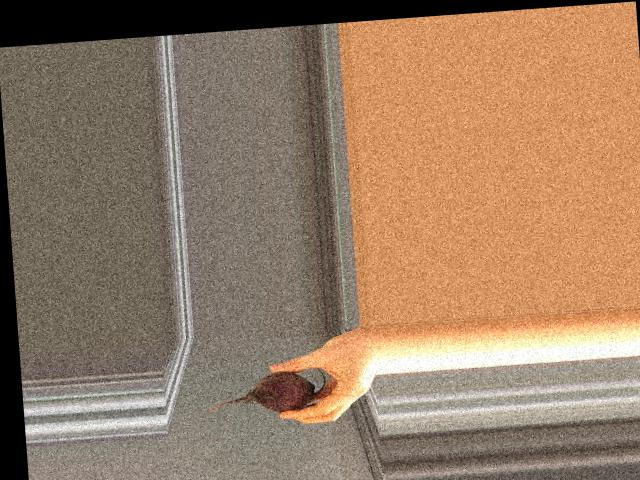beet: (198, 367, 326, 417)
